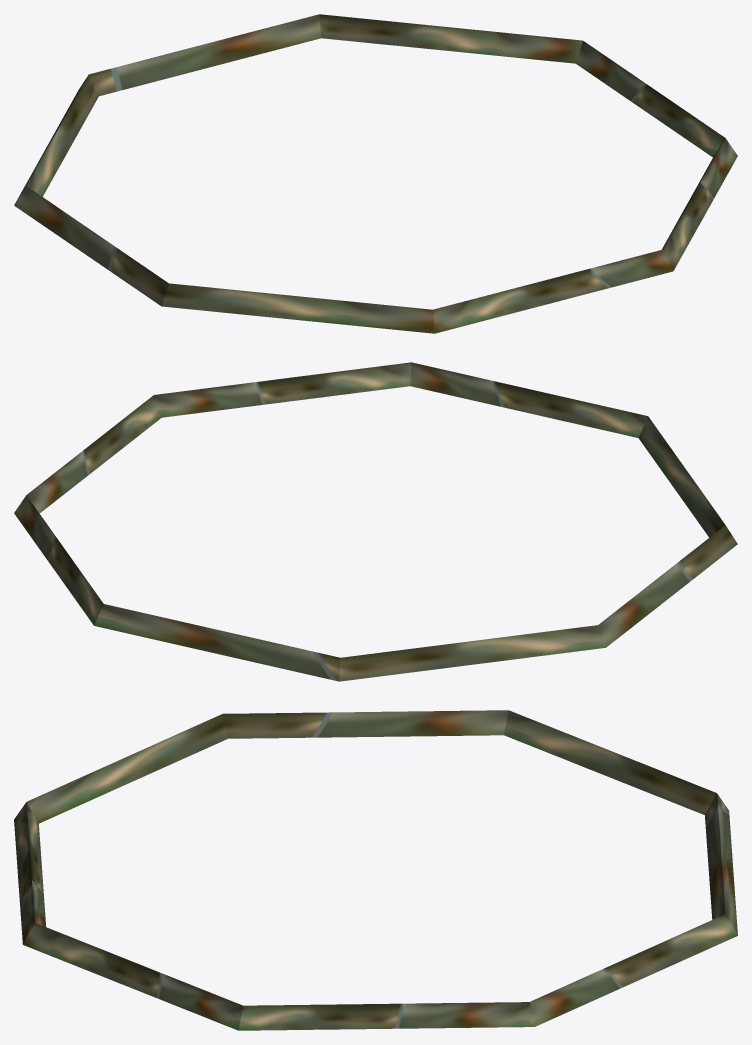
The model's file is H1_BluePlant_Base.gltf.
3 renders of one model, top to bottom at view 1: azimuth 30°, elevation 25°; view 2: azimuth 150°, elevation 25°; view 3: azimuth 270°, elevation 25°, orthographic. The views are drawn at different scales.
Parts seen in each view (by area): view 1: H1_BluePlant_Base; view 2: H1_BluePlant_Base; view 3: H1_BluePlant_Base.
Boxes of the visible parts, x1,y1,x2,y2 form: H1_BluePlant_Base: (14,14,737,333); H1_BluePlant_Base: (14,362,737,681); H1_BluePlant_Base: (14,710,737,1030).
Bounding box in the file's own units: 11.93 × 0.3606 × 11.93.
1 material, 1 textured.
